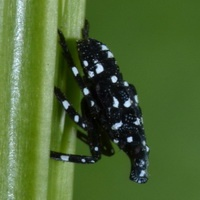insect: (50, 20, 148, 182)
